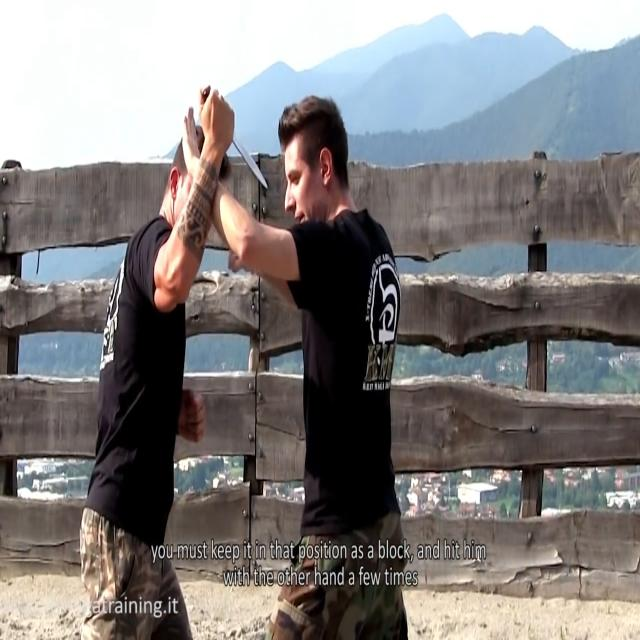knife: (232, 126, 270, 192)
